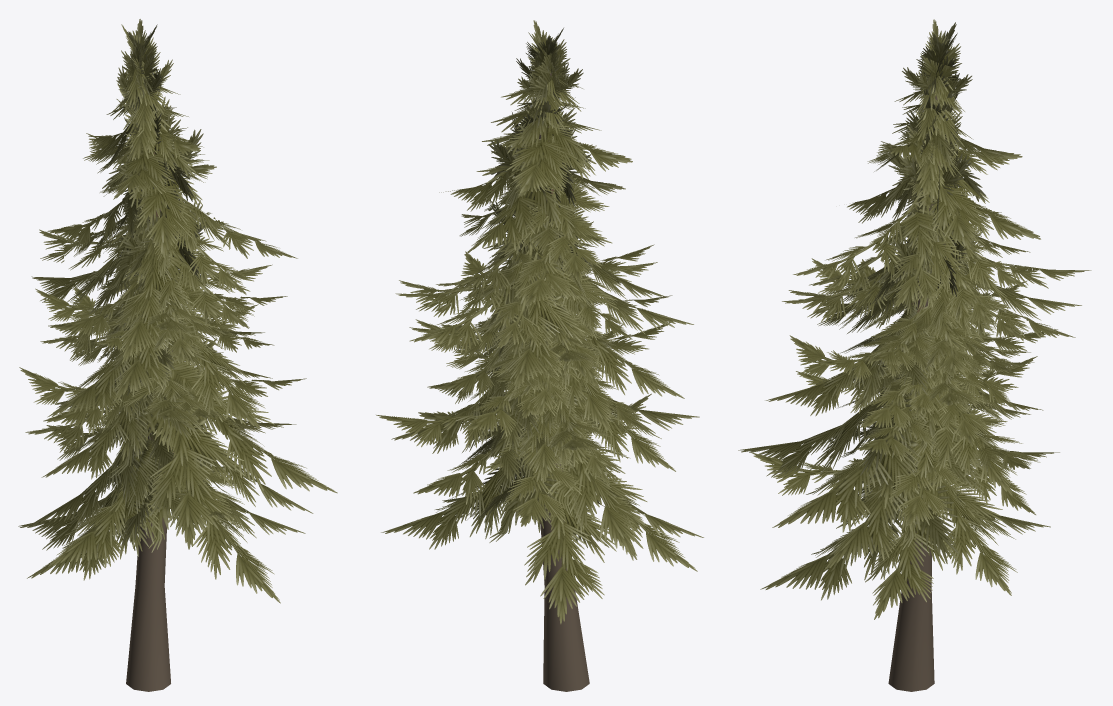
File: tree_03.fbx
3 views of the same model, side by side, from view 1: azimuth 30°, elevation 25°; view 2: azimuth 150°, elevation 25°; view 3: azimuth 270°, elevation 25° (orthographic). The views are drawn at different scales.
Visible parts, largest first — view 1: complet_tree_v01; view 2: complet_tree_v01; view 3: complet_tree_v01.
Boxes of the visible parts, x1,y1,x2,y2 form: complet_tree_v01: (18,19,337,691); complet_tree_v01: (376,20,703,691); complet_tree_v01: (738,19,1091,691).
Size of the model in its own units: 5.75 by 12.82 by 6.38.
